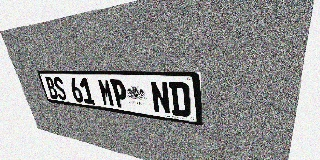1: (78, 78, 95, 104)
6: (68, 78, 85, 103)
B: (44, 77, 59, 99)
D: (169, 82, 191, 118)
M: (97, 79, 115, 107)
N: (150, 81, 171, 115)
P: (110, 79, 129, 109)
S: (52, 77, 68, 101)
